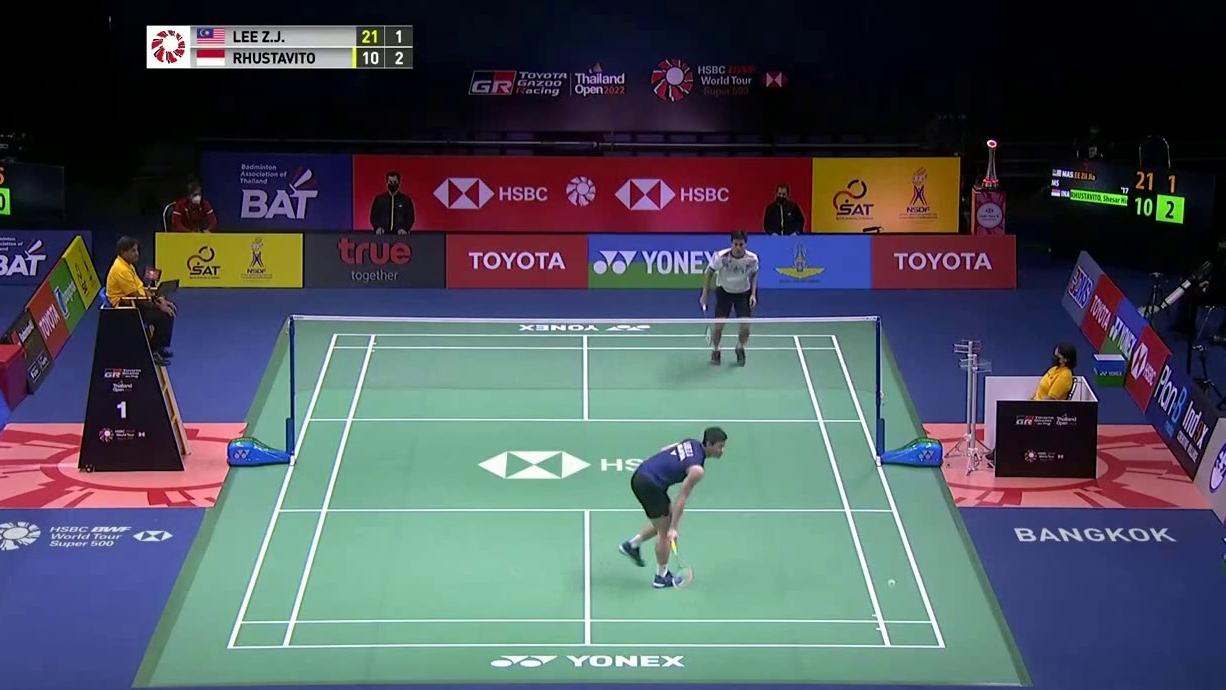racket: (669, 530, 693, 590), (701, 298, 713, 346)
shuttle: (887, 579, 897, 587)
